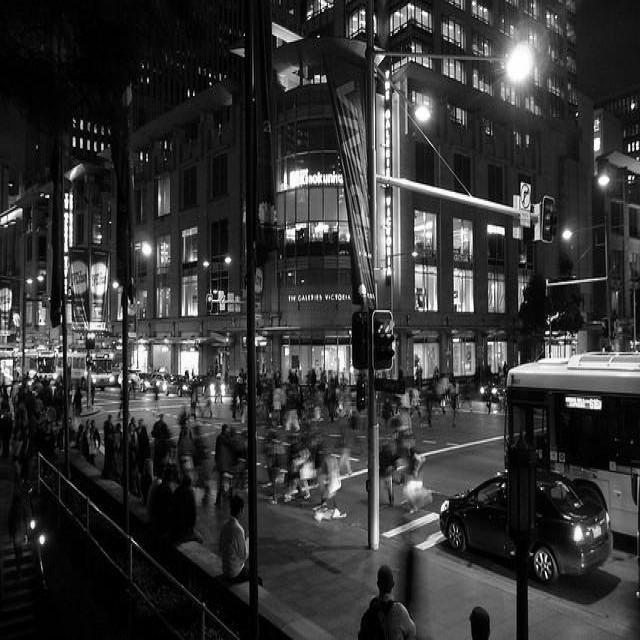vehicle: (504, 349, 640, 538), (439, 466, 614, 588), (163, 375, 193, 399), (197, 373, 225, 395), (143, 371, 165, 392)
